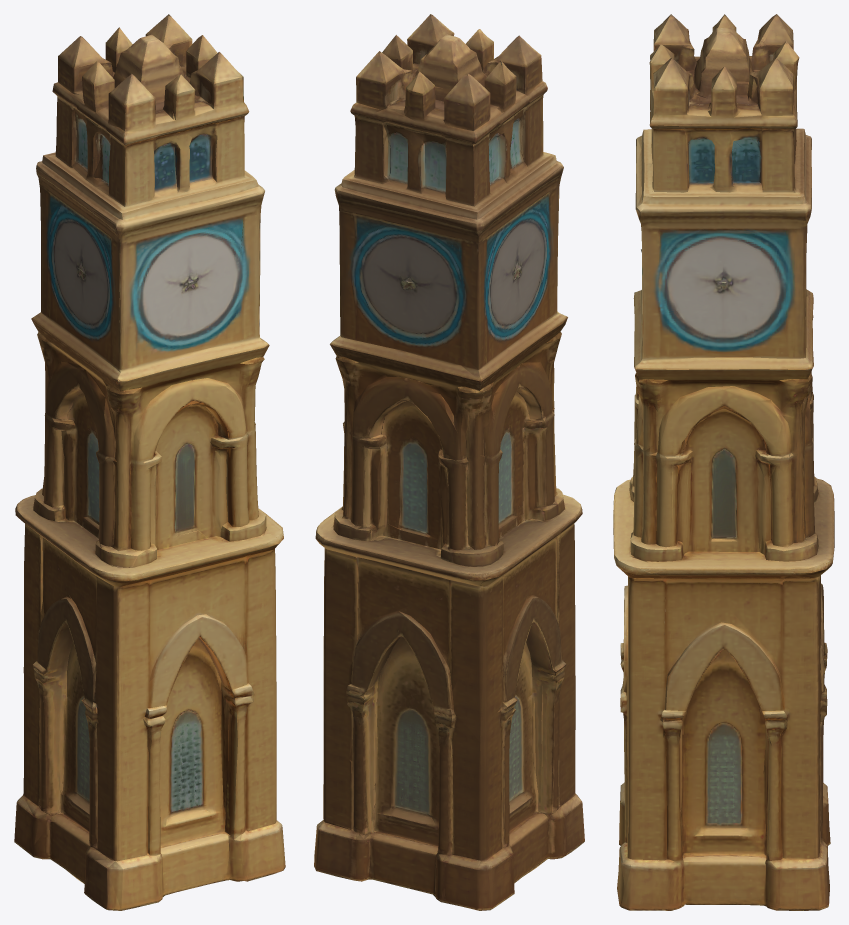
File: v3_jaffa_clock_tower2.glb
3 renders of one model, left to right at view 1: azimuth 30°, elevation 25°; view 2: azimuth 150°, elevation 25°; view 3: azimuth 270°, elevation 25°, orthographic. The views are drawn at different scales.
Parts seen in each view (by area): view 1: geometry_0; view 2: geometry_0; view 3: geometry_0.
Part boxes in pixels (x1,y1,x2,y2): geometry_0: (14, 14, 285, 910); geometry_0: (314, 14, 584, 910); geometry_0: (613, 14, 834, 910).
Size of the model in its own units: 6 by 25 by 6.
1 material, 1 textured.
